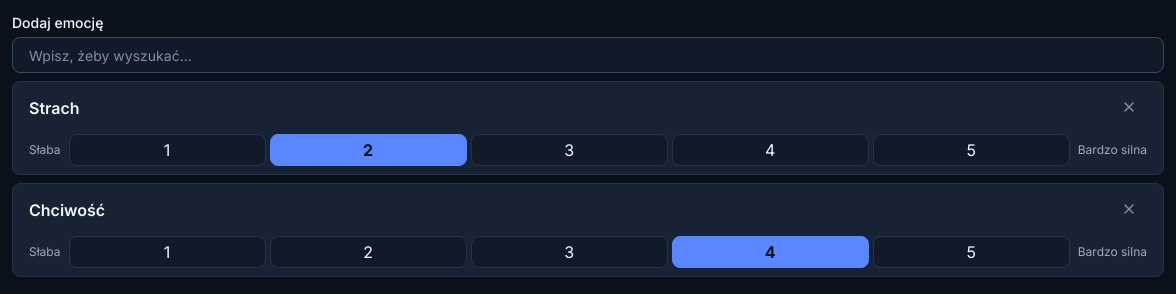
EmotionsEditor - usuwanie nie dotyka innych wpisów › usunięcie jednej emocji zostawia pozostałe
Click the button named "Usuń emocję Strach" at [1129, 108], box top-left (1111, 90), bottom-right (1147, 126)
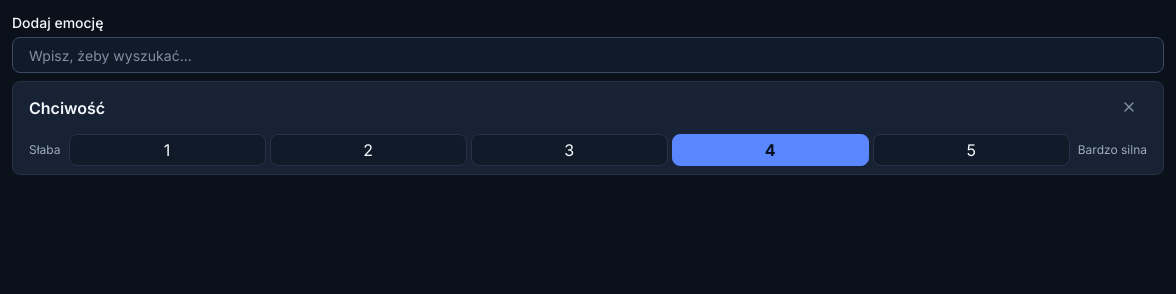
Expected: the text "Chciwość" is shown, top-left (29, 96), bottom-right (105, 120)
Result: the text "Strach" is gone
